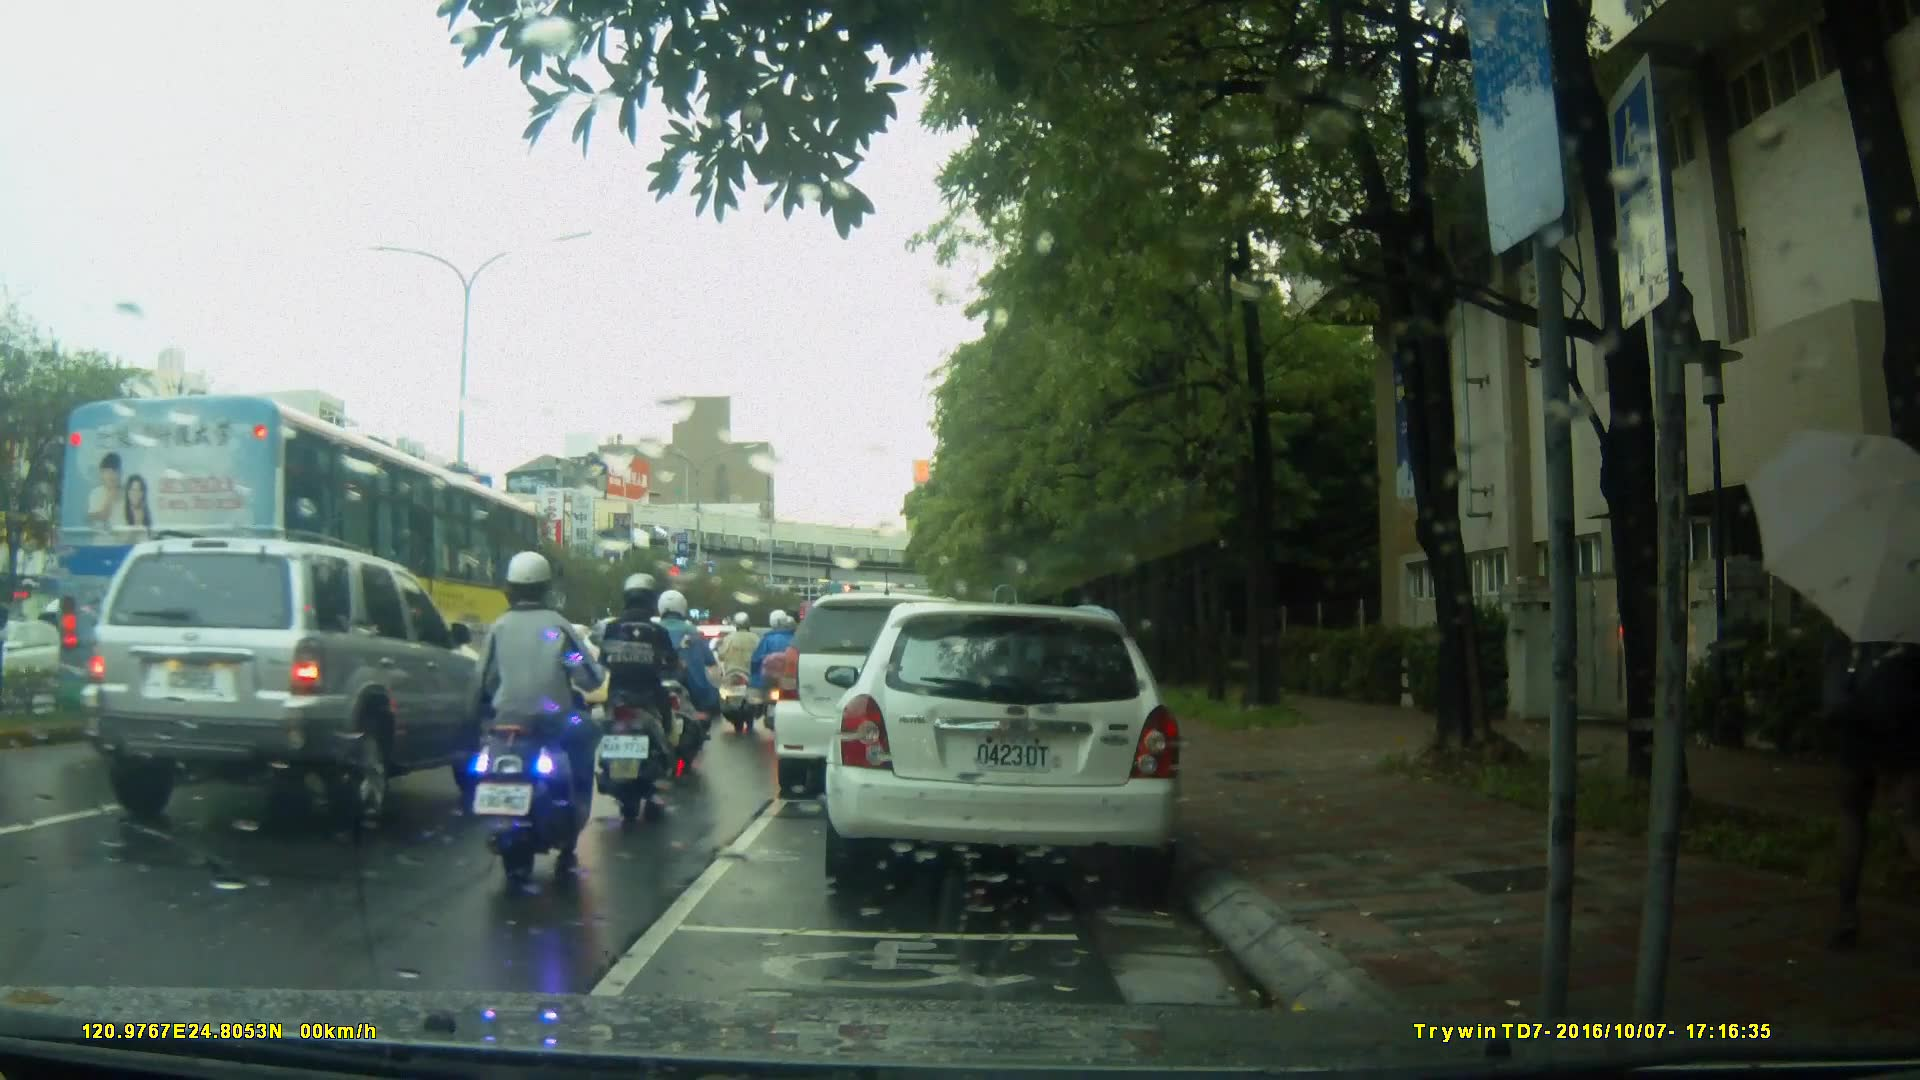rider: (461, 547, 609, 889), (596, 570, 685, 819), (642, 586, 725, 768), (713, 610, 773, 732), (753, 612, 814, 730)
vehicle: (46, 393, 552, 759), (72, 529, 496, 832), (835, 594, 1194, 898), (776, 590, 1026, 784)
